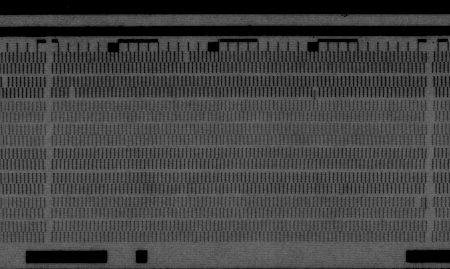Broken hole: (181, 49, 191, 65), (411, 195, 422, 209), (2, 77, 11, 90), (68, 89, 77, 100)
Oblique printing: (310, 86, 322, 102)
